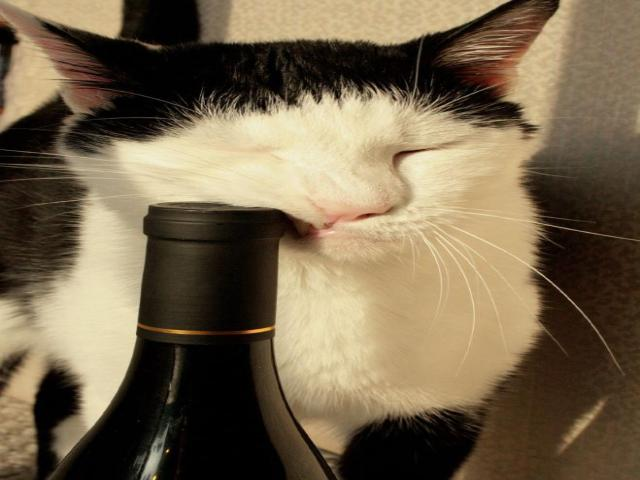Cat: (0, 0, 635, 480)
